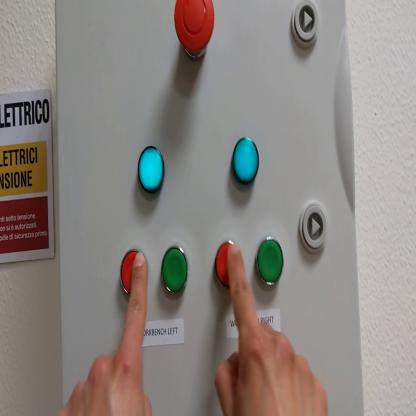hand: (217, 239, 329, 414), (58, 253, 156, 416)
left green button: (162, 246, 189, 298)
left red button: (119, 247, 148, 297)
right green button: (258, 237, 284, 286)
right red button: (219, 239, 241, 288)
